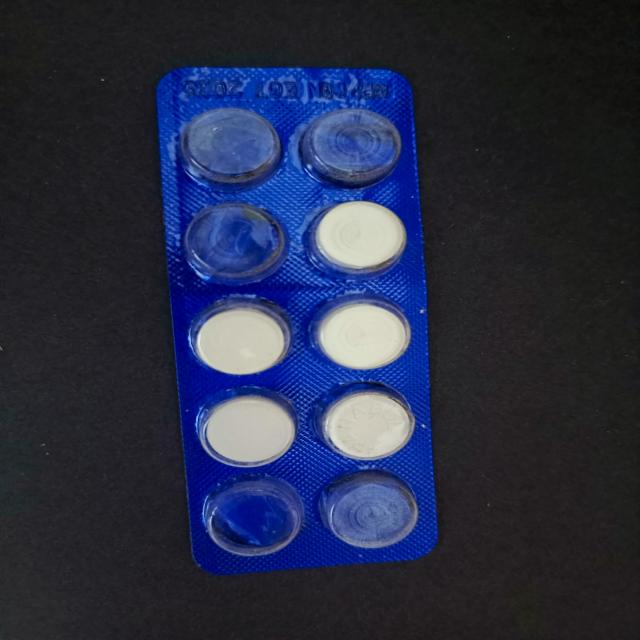defect: (172, 104, 288, 192), (180, 200, 292, 289), (198, 475, 308, 559), (296, 106, 406, 190), (319, 467, 423, 551)
